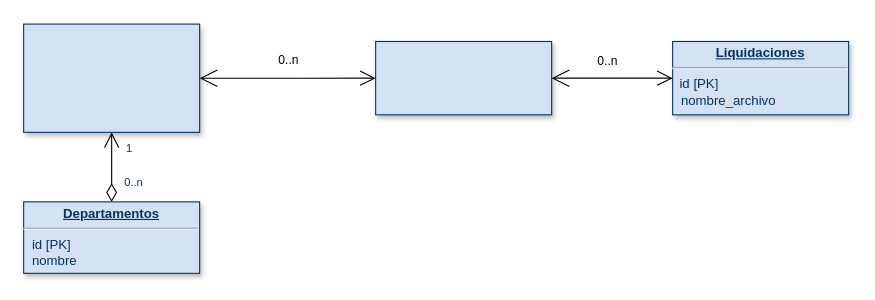
Image size: 875x300. Some labels were removed from this diagram. Here are the shapes that lost their labels. From the top down, the centre of each, then its label:
At point 112,79: "Trabajador rut [PK] nombre direccion departamento_id [FK]".
At point 464,79: "Pagos trabajador_id [FK] liquidacion_id [FK]".
